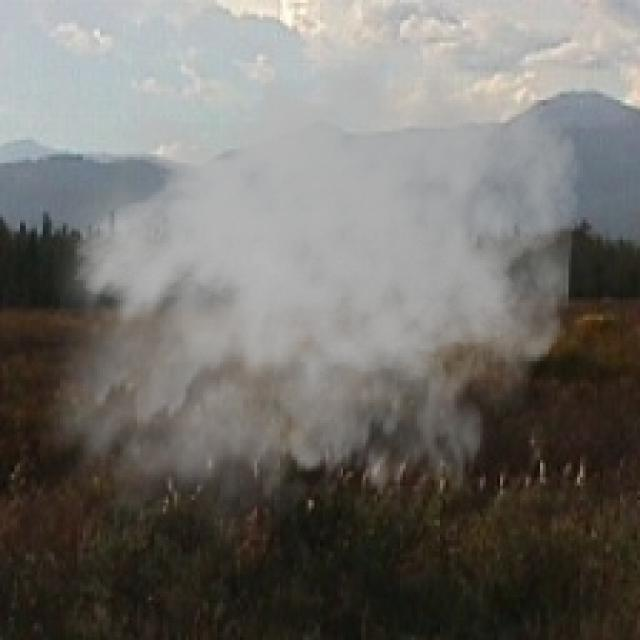Smoke: (23, 26, 583, 554)
